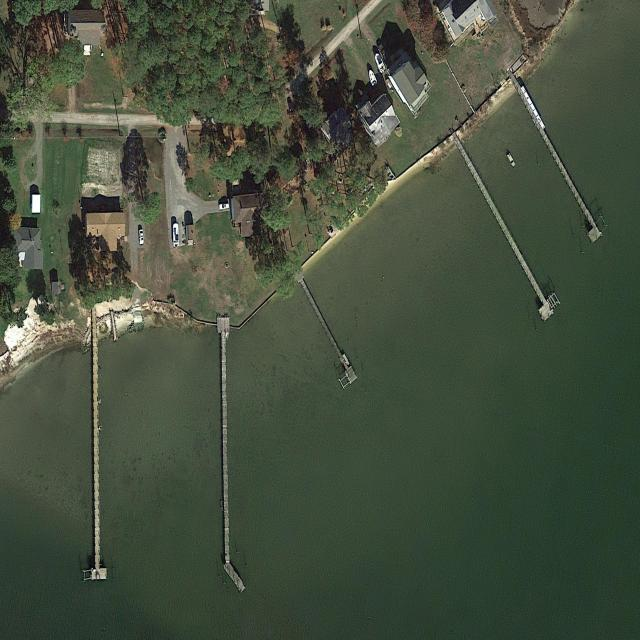ship: (373, 51, 386, 73), (505, 150, 517, 170), (367, 68, 378, 87), (173, 223, 179, 247), (386, 78, 395, 93)
small-vehicle: (138, 229, 145, 245), (218, 202, 230, 211)
